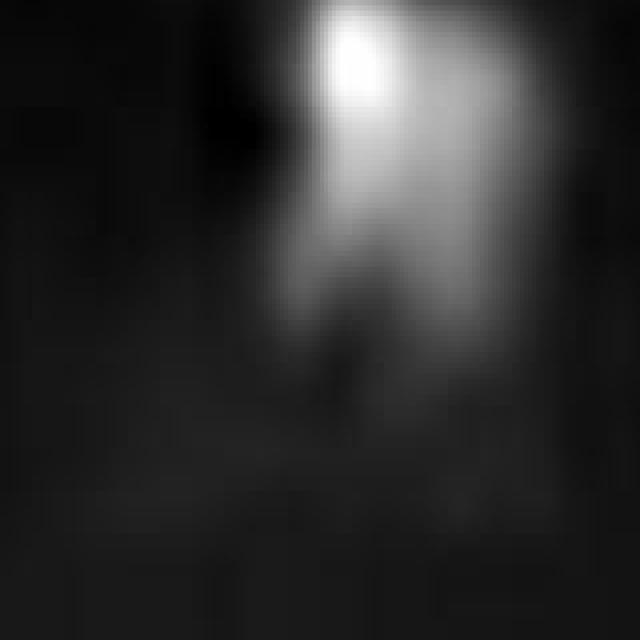person: (241, 1, 569, 428)
